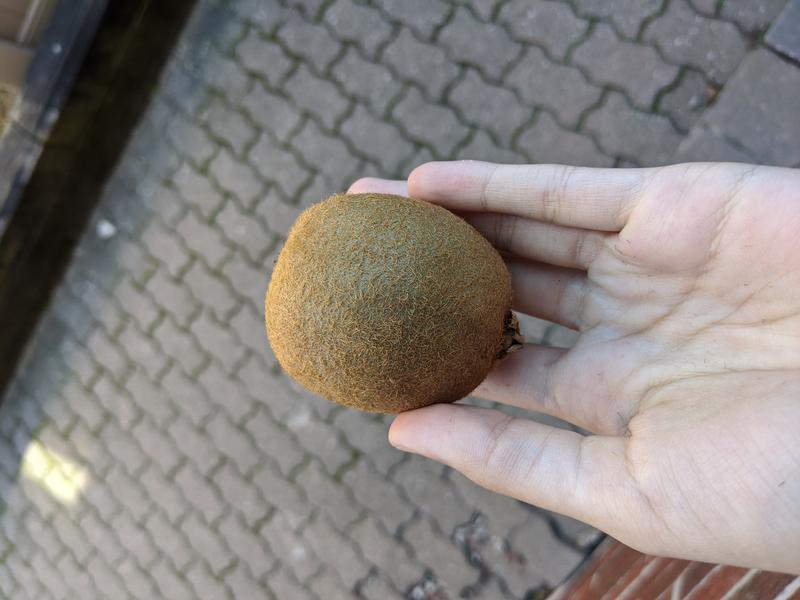kiwi: (263, 191, 526, 415)
